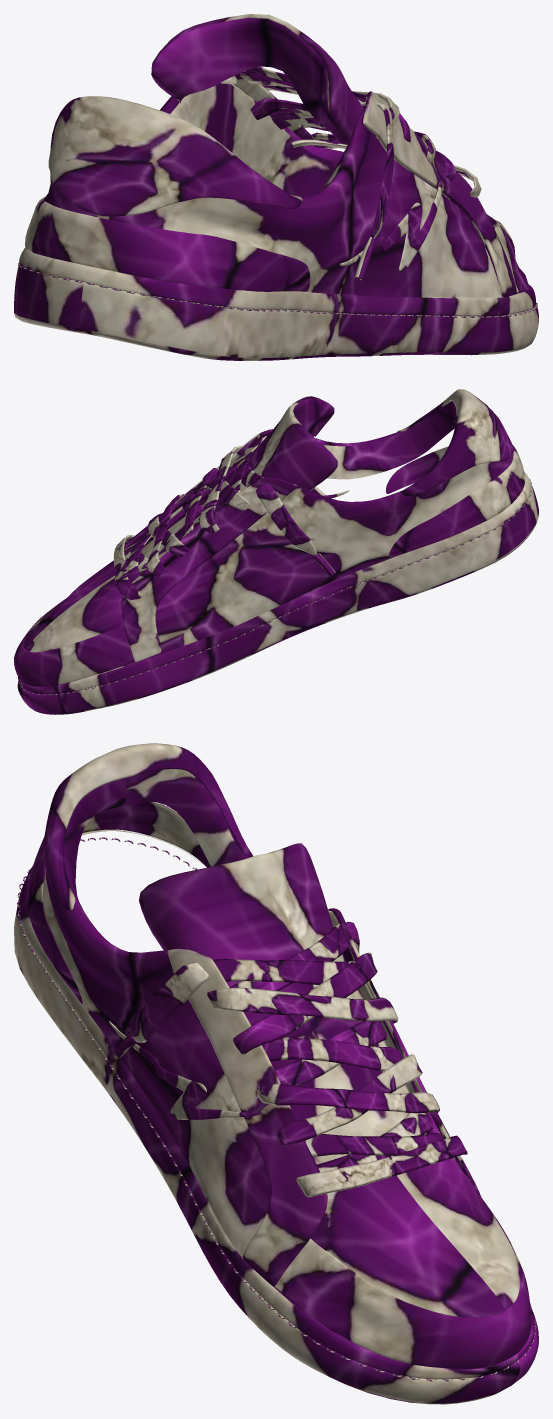
The model's file is shoe_header.glb.
The picture shows the model from 3 angles, top to bottom: view 1: azimuth 30°, elevation 25°; view 2: azimuth 150°, elevation 25°; view 3: azimuth 270°, elevation 25°; orthographic projection. The views are drawn at different scales.
Visible parts, largest first — view 1: shoes; view 2: shoes; view 3: shoes.
Boxes of the visible parts, <box> form: shoes: <box>14,14,538,360</box>; shoes: <box>14,389,538,714</box>; shoes: <box>14,743,538,1404</box>.
Bounding box in the file's own units: 5.94 × 4.13 × 4.63.
Materials: 3 (3 with a texture image).
